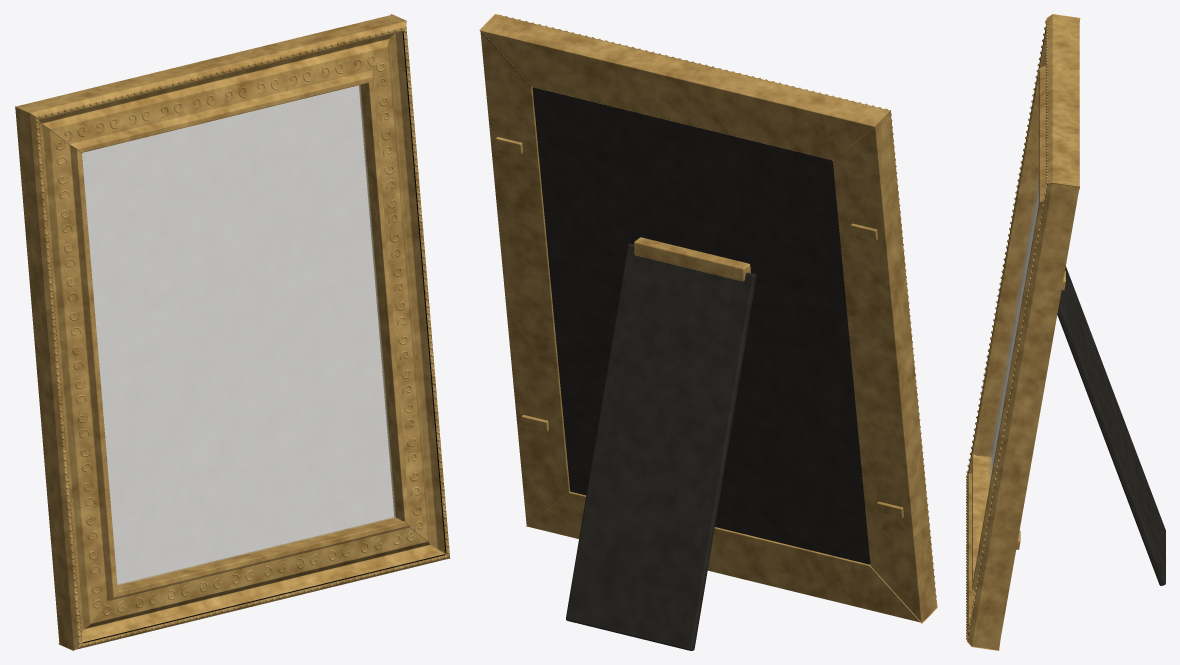
File: portarretrato_3.gltf
3 views of the same model, side by side, from view 1: azimuth 30°, elevation 25°; view 2: azimuth 150°, elevation 25°; view 3: azimuth 270°, elevation 25° (orthographic). The views are drawn at different scales.
Parts seen in each view (by area): view 1: portarretrato_3_optimizado; view 2: portarretrato_3_optimizado; view 3: portarretrato_3_optimizado.
Part boxes in pixels (box(x1,y1,x2,y2)): portarretrato_3_optimizado: box(15, 14, 450, 650); portarretrato_3_optimizado: box(479, 14, 937, 650); portarretrato_3_optimizado: box(966, 14, 1165, 650).
Bounding box in the file's own units: 0.2355 × 0.3043 × 0.1178.
5 materials, 4 textured.
